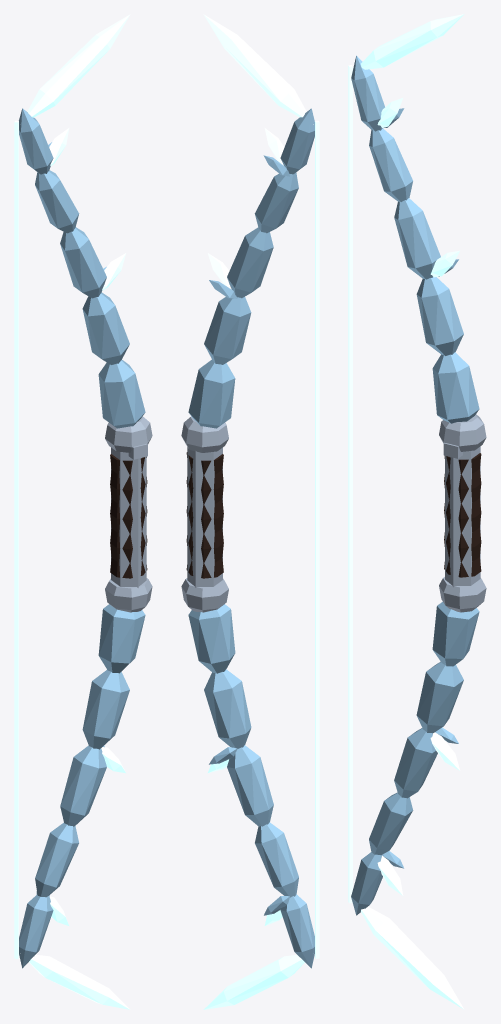
Rendered from W2S_FrostBow.fbx.
3 views of the same model, side by side, from view 1: azimuth 30°, elevation 25°; view 2: azimuth 150°, elevation 25°; view 3: azimuth 330°, elevation 25° (orthographic).
Parts seen in each view (by area): view 1: W2S_FrostBow; view 2: W2S_FrostBow; view 3: W2S_FrostBow.
Part boxes in pixels (left/top/right/bottom): W2S_FrostBow: left=14, top=14, right=152, bottom=1009; W2S_FrostBow: left=181, top=14, right=319, bottom=1009; W2S_FrostBow: left=348, top=14, right=486, bottom=1009.
Bounding box in the file's own units: 18.58 × 132 × 5.58.
